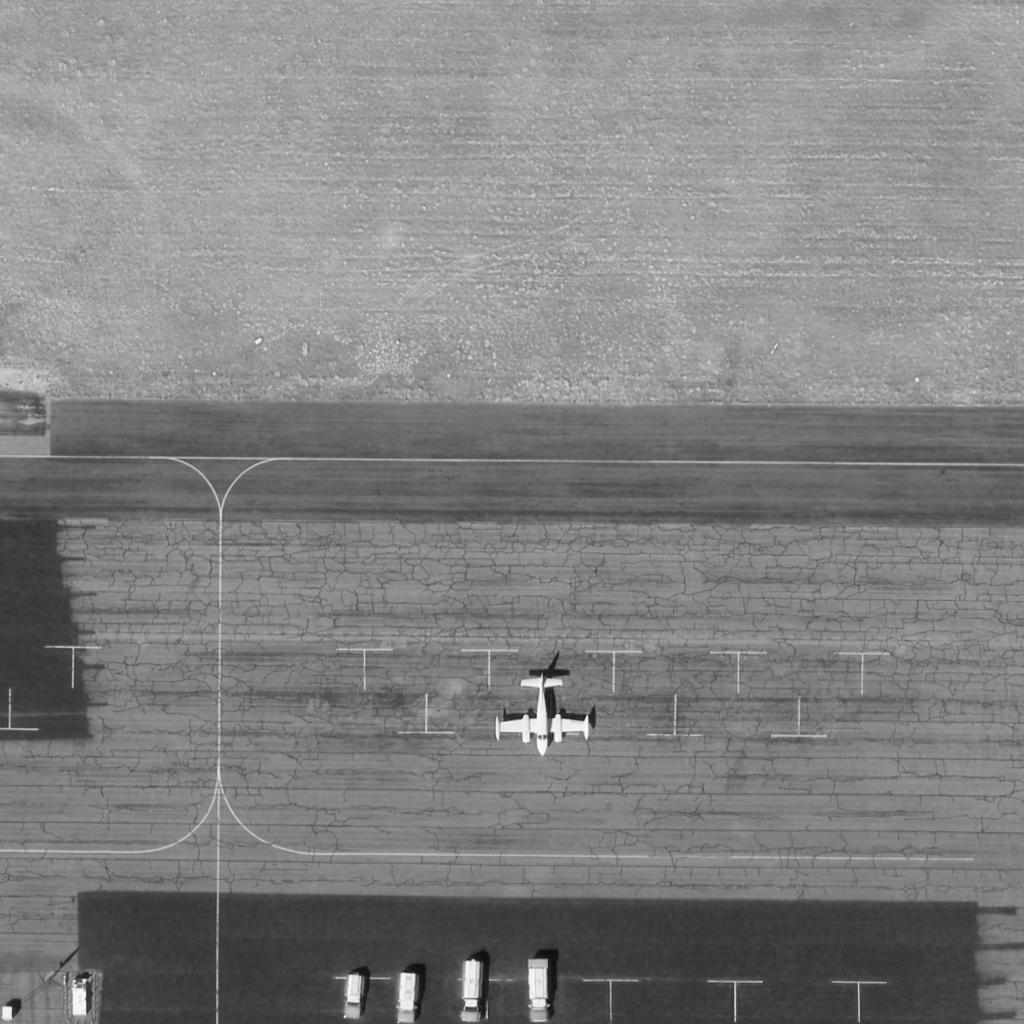vehicle: (461, 963, 487, 1021), (526, 961, 548, 1021), (396, 974, 420, 1024), (343, 974, 365, 1022)
